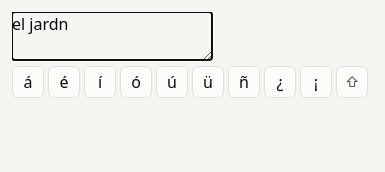
AccentKeyboard › keeps typing where the character went in, even right after the click
Click the button named "Insert í".
click(100, 82)  # box [84, 66, 116, 98]
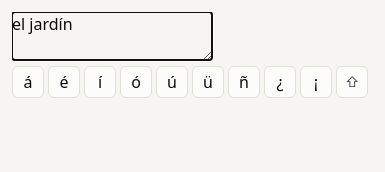
Type keys "xy"
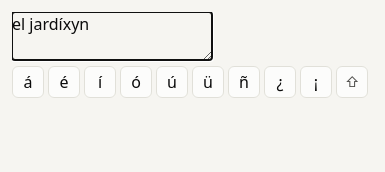
Expected: the text box named "text" holds "el jardíxyn", [12, 12, 212, 60]
